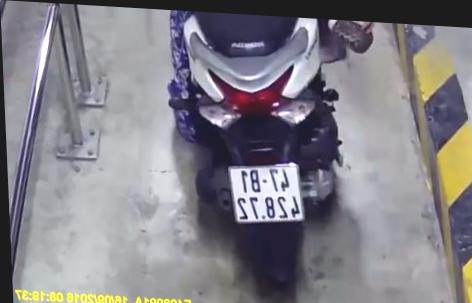License_Plate: (223, 153, 308, 230)
